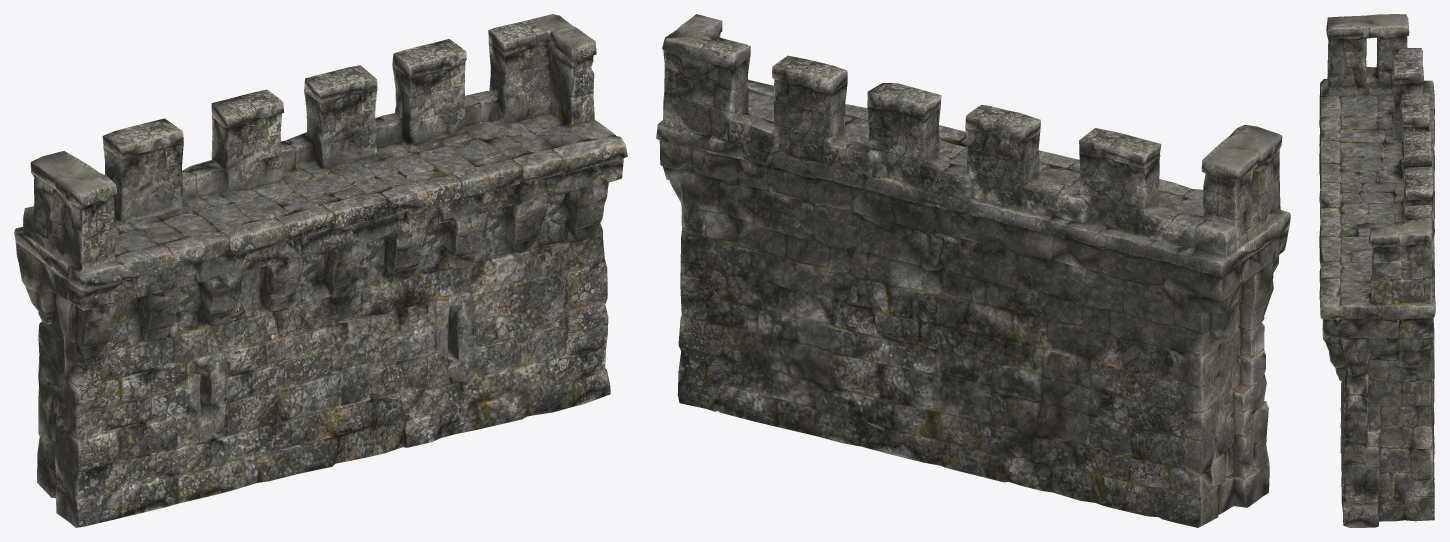
The model's file is fort_m_desert_wall.glb.
3 views of the same model, side by side, from view 1: azimuth 30°, elevation 25°; view 2: azimuth 150°, elevation 25°; view 3: azimuth 270°, elevation 25° (orthographic). The views are drawn at different scales.
Parts seen in each view (by area): view 1: fort_m_desert_wall; view 2: fort_m_desert_wall; view 3: fort_m_desert_wall.
Part boxes in pixels (left/top/right/bottom): fort_m_desert_wall: left=14, top=14, right=627, bottom=527; fort_m_desert_wall: left=656, top=14, right=1290, bottom=527; fort_m_desert_wall: left=1319, top=14, right=1435, bottom=527.
Size of the model in its own units: 1.9 by 1.15 by 0.4126.
Materials: 1 (1 with a texture image).
